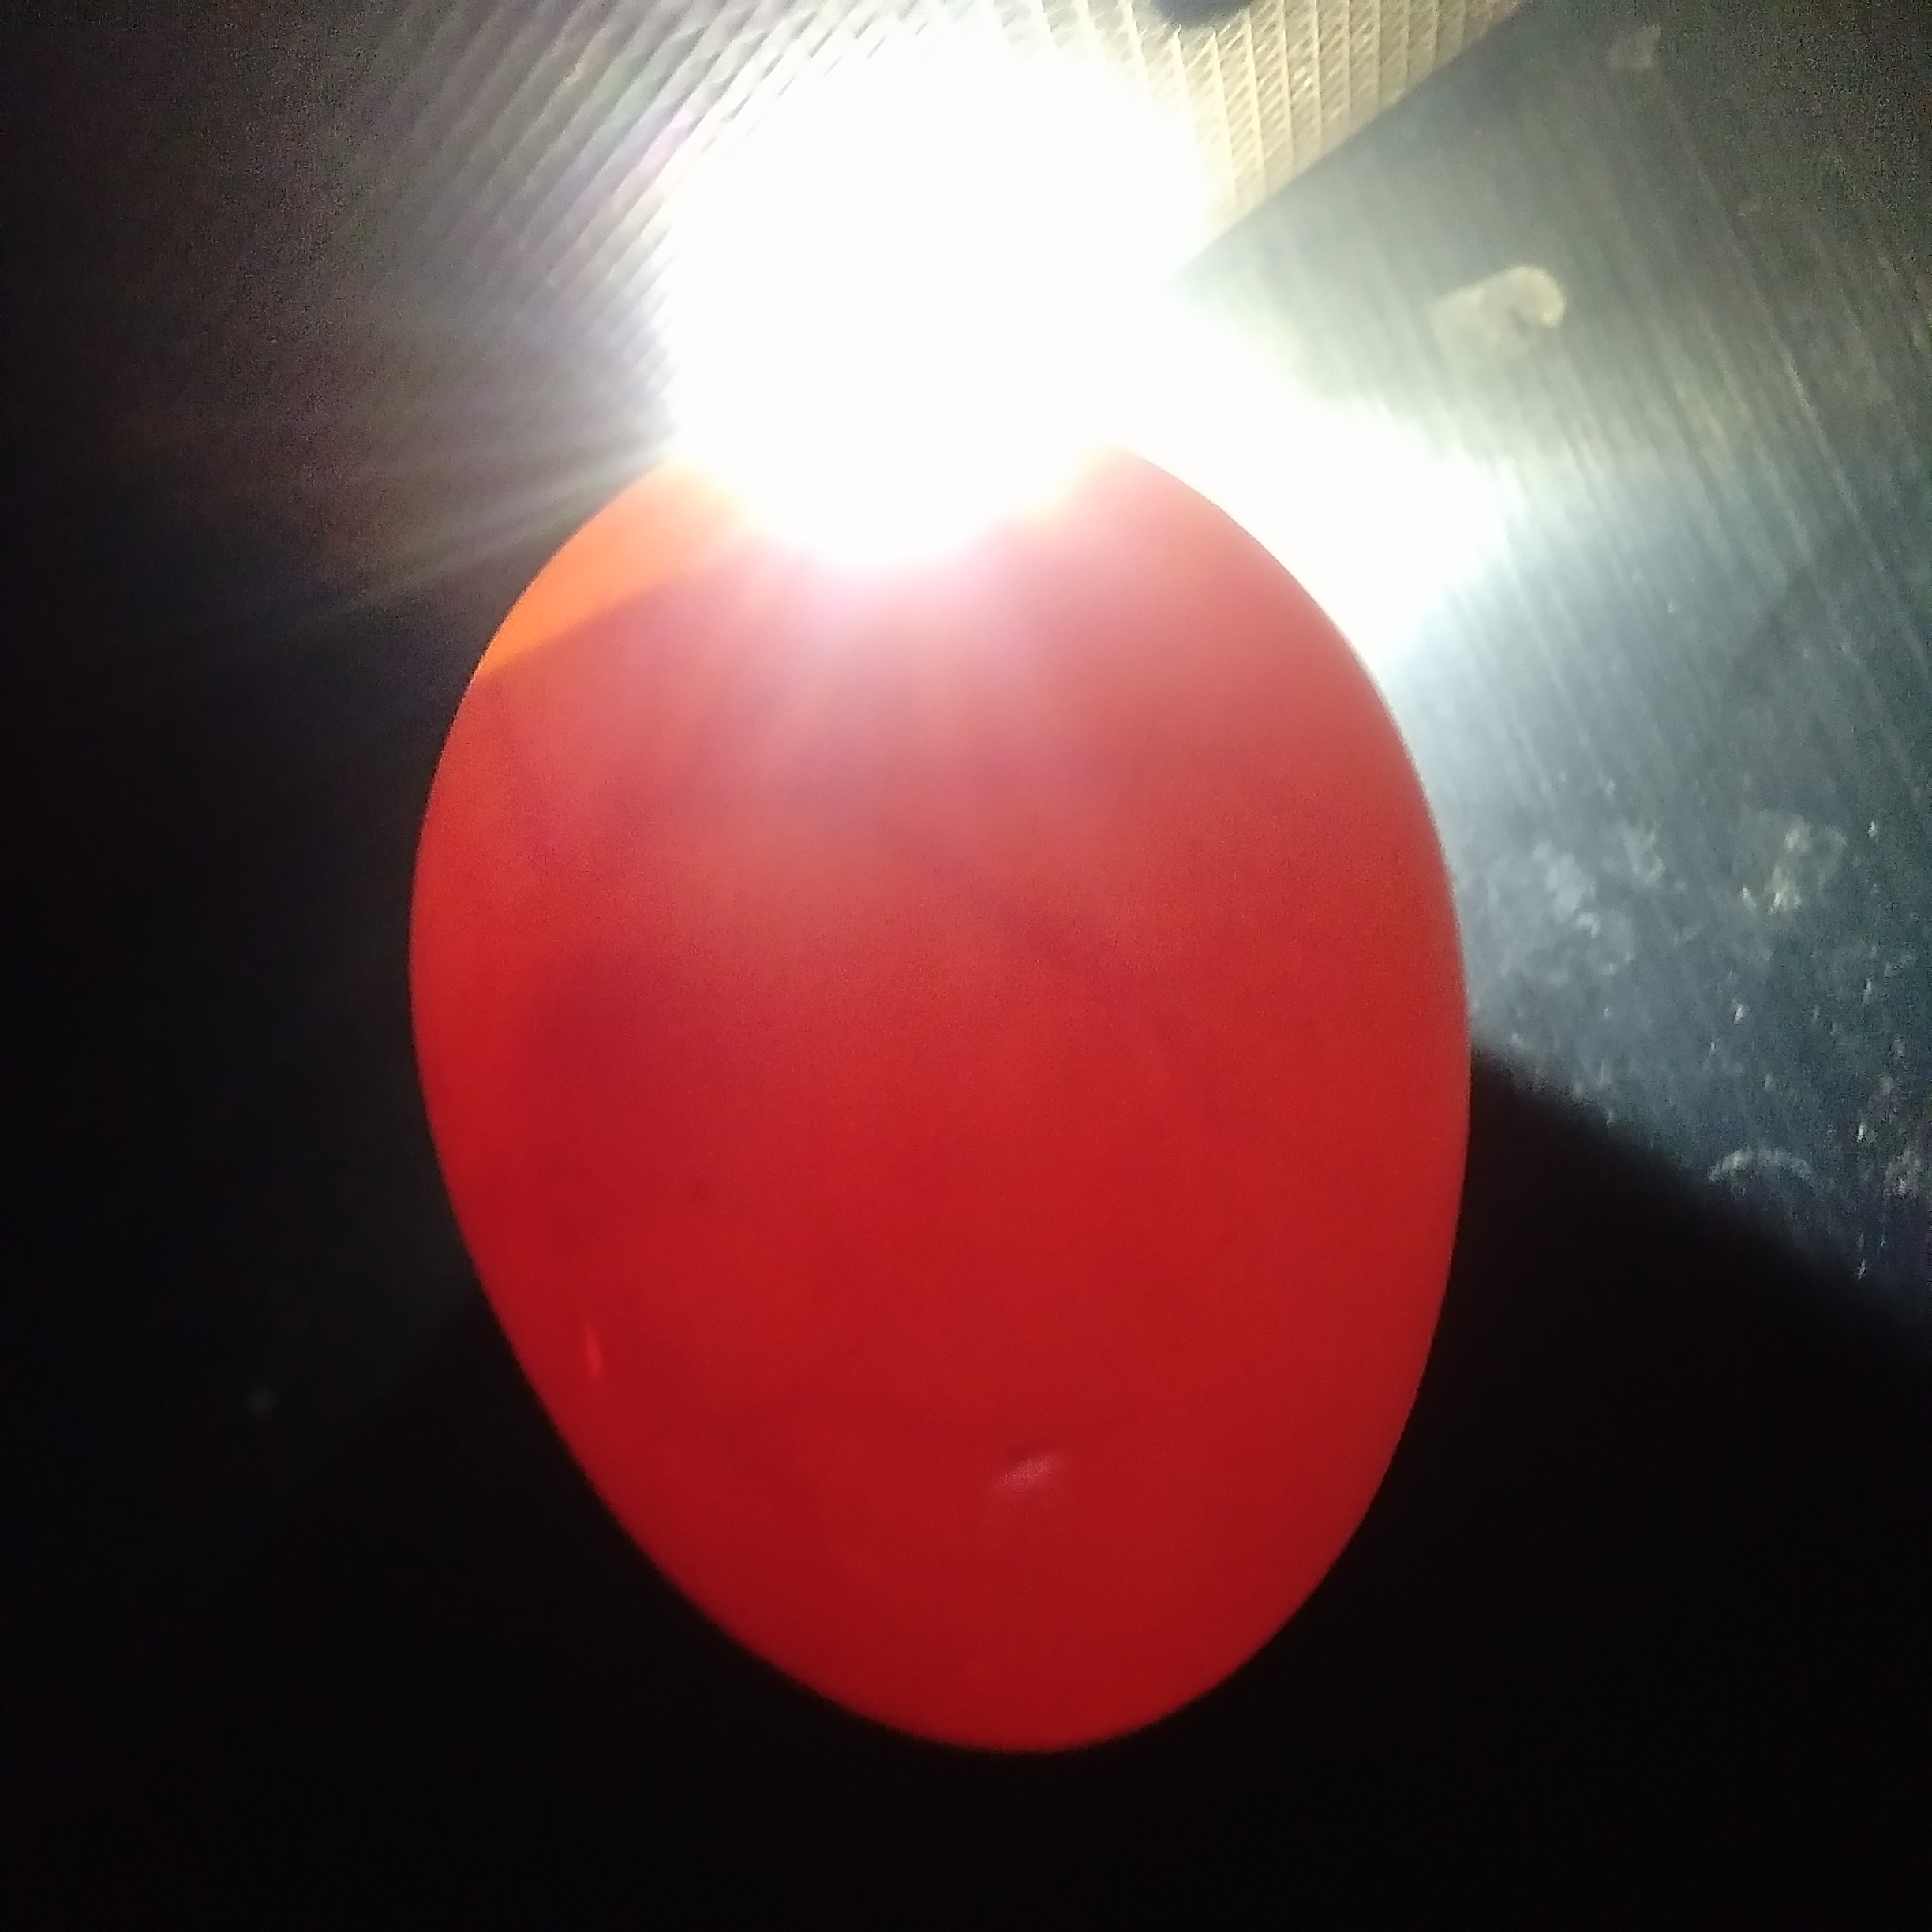bloodcell: (575, 681, 1148, 897), (602, 1304, 1058, 1520)
embryo: (513, 952, 697, 1139)
